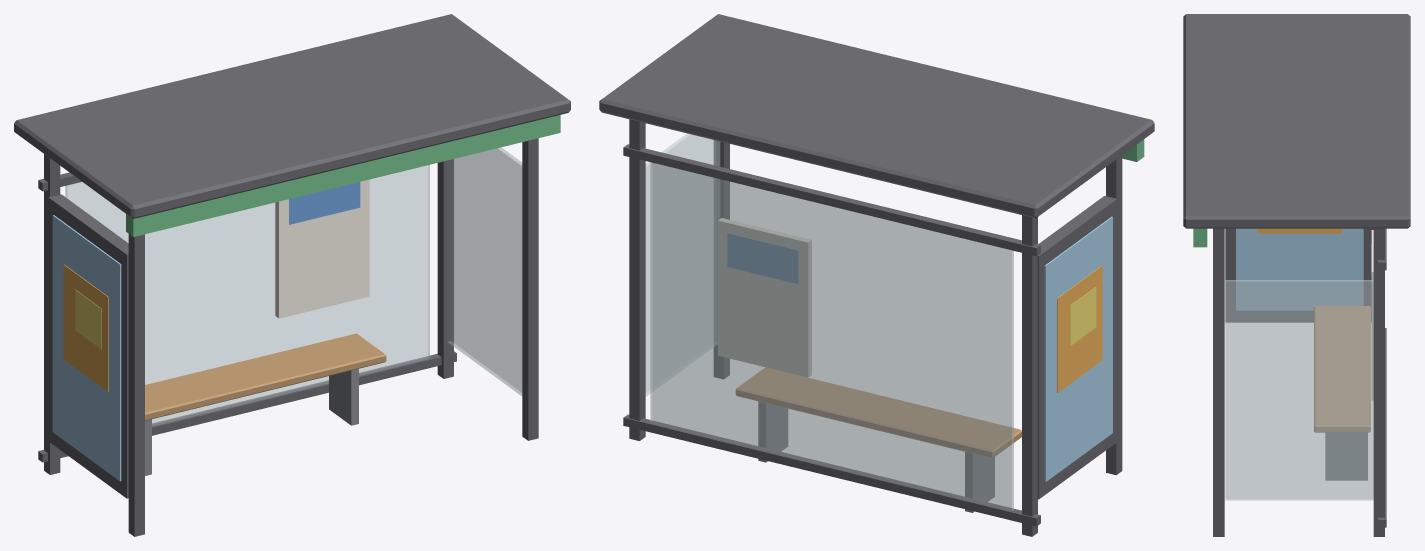
File: prop_bus_stop_01.glb
The picture shows the model from 3 angles, left to right: view 1: azimuth 30°, elevation 25°; view 2: azimuth 150°, elevation 25°; view 3: azimuth 270°, elevation 25°; orthographic projection. The views are drawn at different scales.
Visible parts, largest first — view 1: prop_bus_stop_01_body; view 2: prop_bus_stop_01_body; view 3: prop_bus_stop_01_body.
Boxes of the visible parts, left/top/right/bottom form: prop_bus_stop_01_body: left=14, top=14, right=570, bottom=536; prop_bus_stop_01_body: left=599, top=14, right=1154, bottom=536; prop_bus_stop_01_body: left=1183, top=14, right=1410, bottom=536.
Size of the model in its own units: 3.4 by 2.55 by 1.6.
